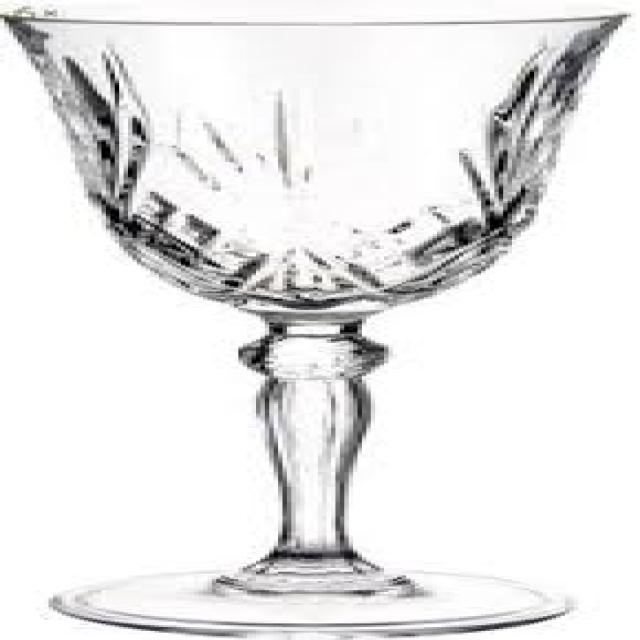glass: (0, 2, 631, 638)
